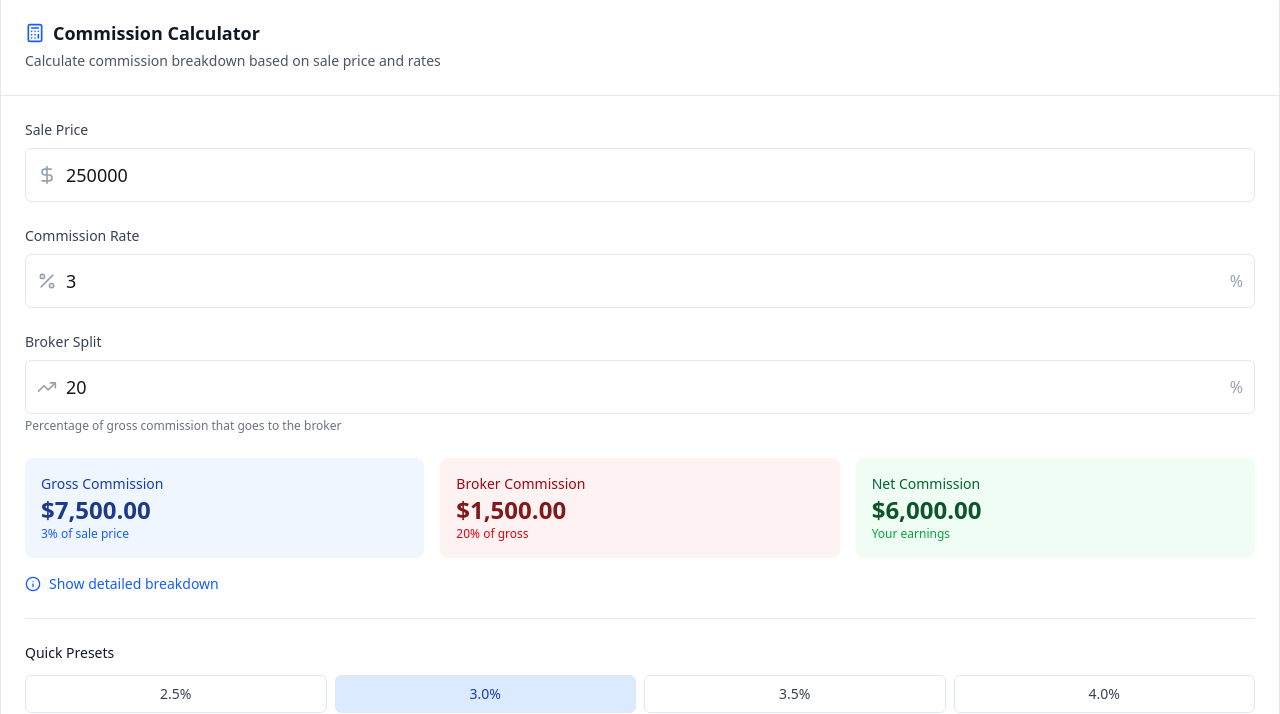
CommissionCalculator › should show detailed breakdown information
Click the button "Show detailed breakdown".
click(122, 584)  # box [25,574,219,594]
(page scrolled)
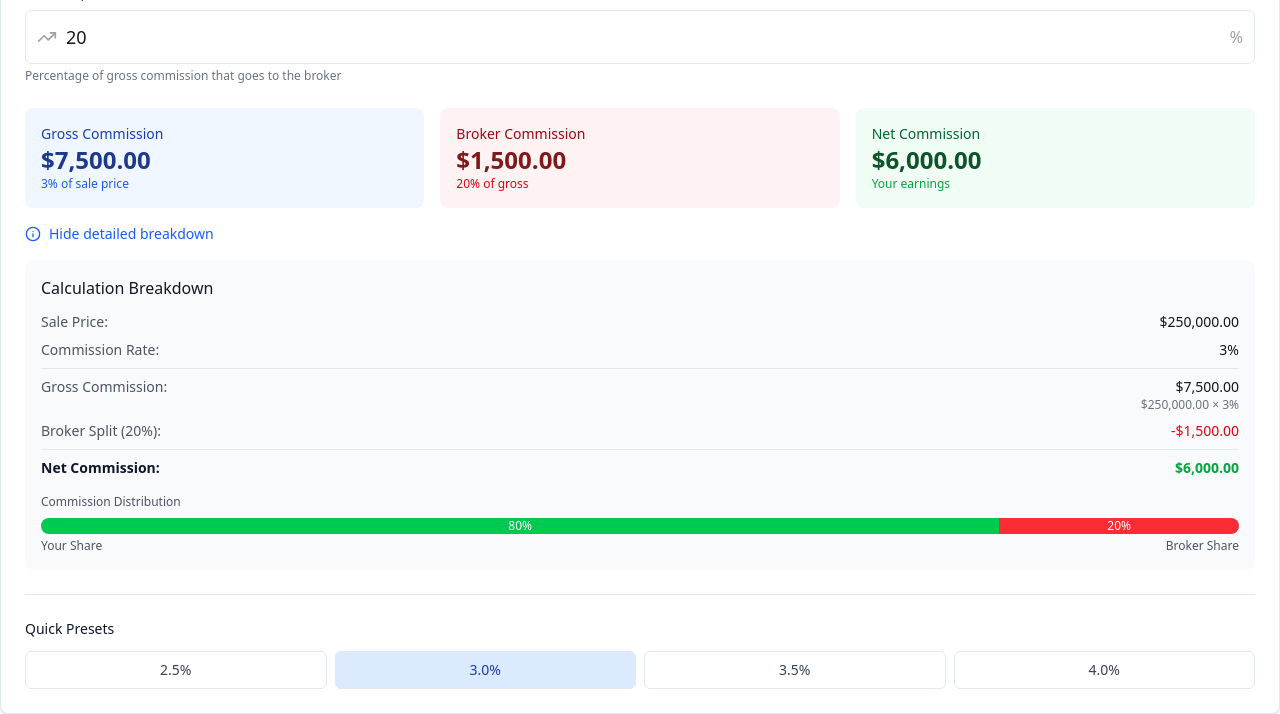
Check: the text "Sale Price:" is shown, box [41,312,108,332]
Check: the text "Commission Rate:" is shown, box [41,340,159,360]
Check: the text "Gross Commission:" is shown, box [41,377,167,397]
